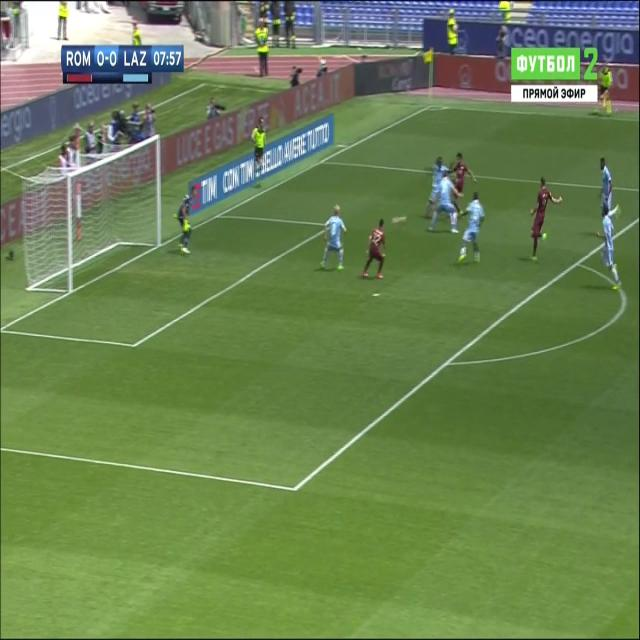Goalkeeper: (172, 189, 193, 255)
Player: (528, 173, 565, 265), (427, 170, 464, 237), (454, 192, 486, 268), (597, 201, 623, 291), (317, 201, 348, 275), (359, 216, 388, 284), (422, 154, 447, 218), (448, 150, 476, 196), (597, 158, 619, 216)
Referee: (249, 116, 266, 190)
